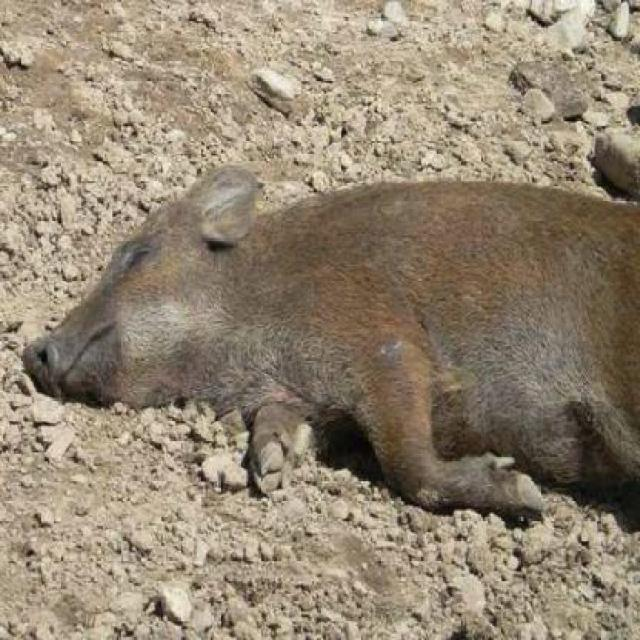Boar: (23, 100, 640, 531)
